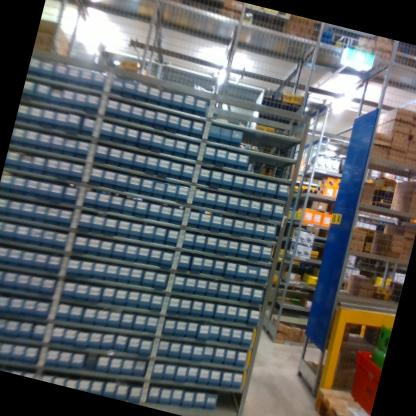pallet: (307, 381, 375, 416)
small_load_carrier: (339, 340, 386, 416)
